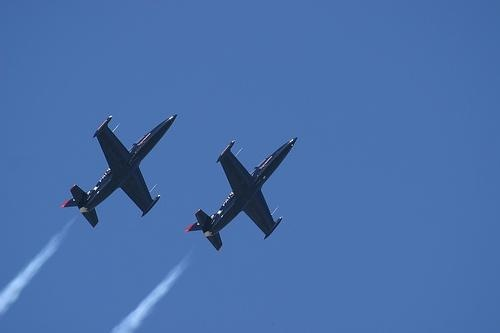aeroplane: (61, 114, 179, 230), (186, 135, 299, 253)
